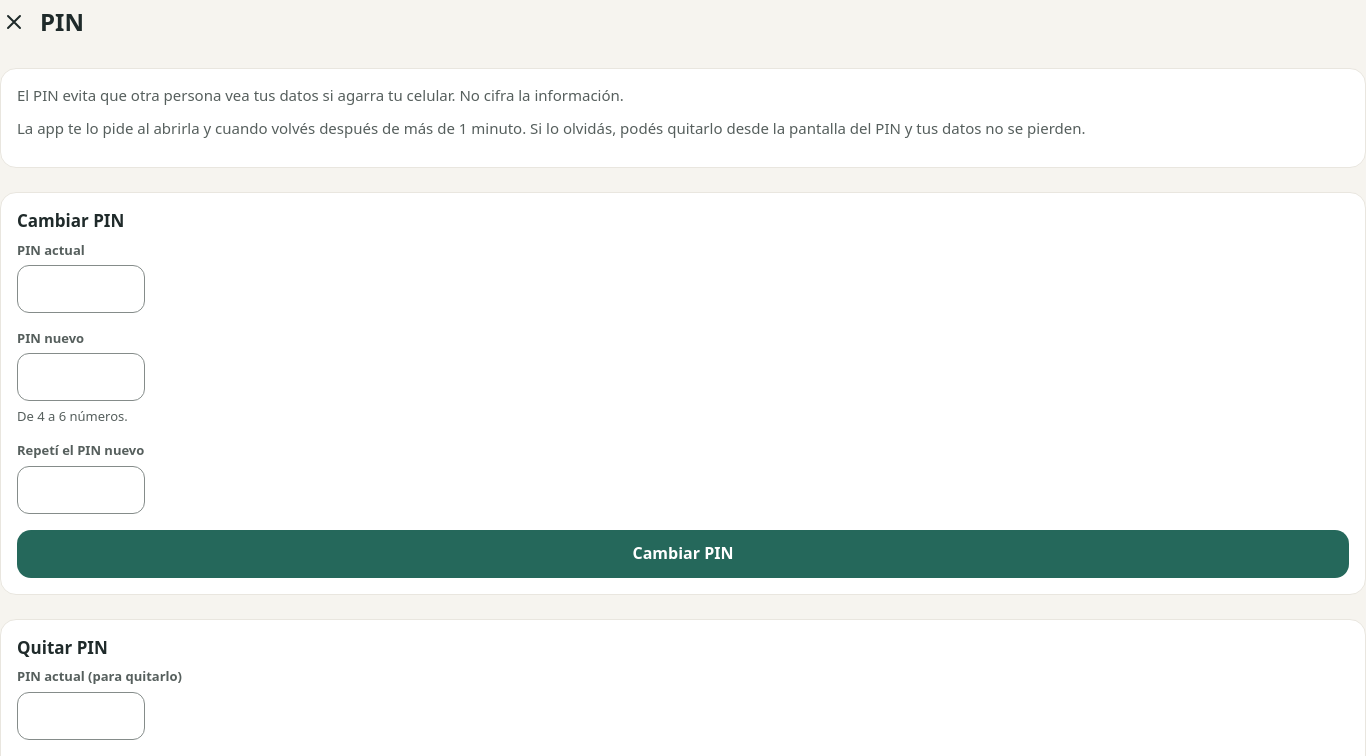
con PIN › cambia el PIN pidiendo el actual
In the password field labelled "PIN actual": point(81, 289) x1=17 y1=265 x2=145 y2=313, type "1234"
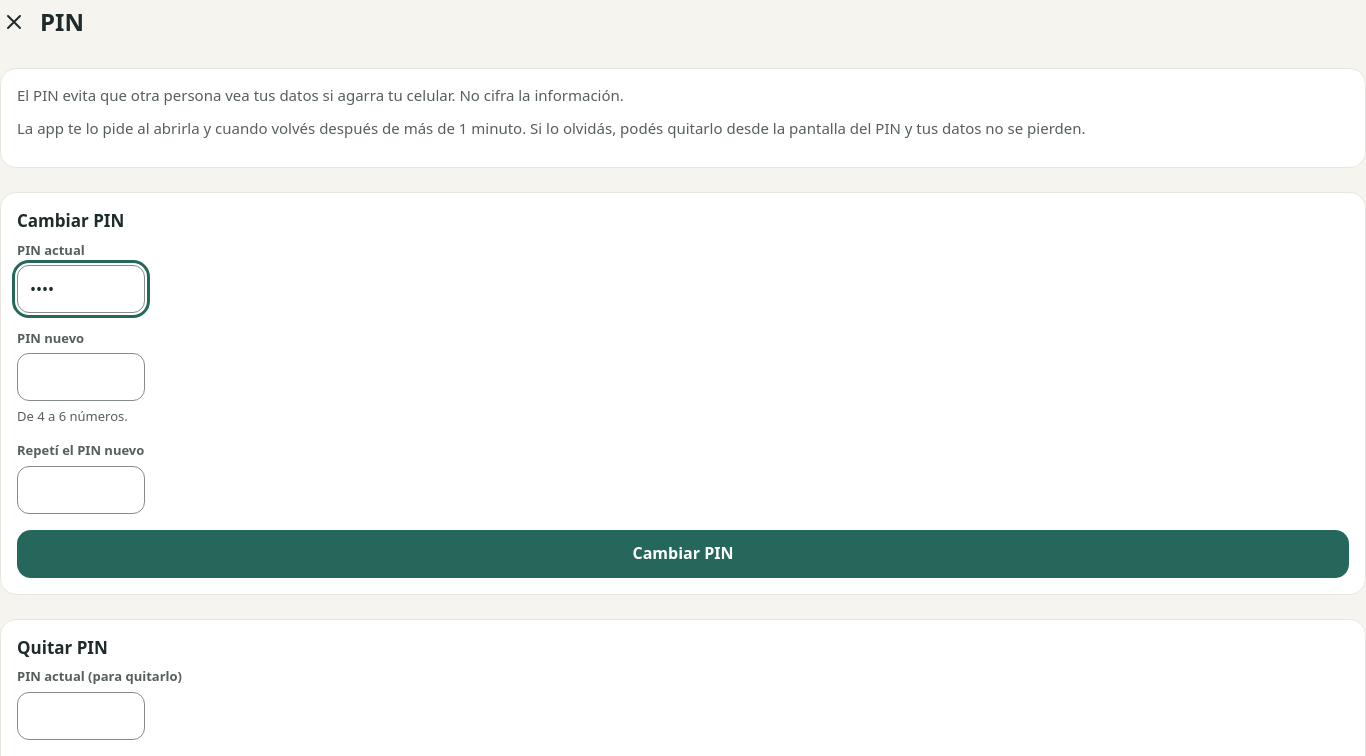
In the password field labelled "PIN nuevo": point(81, 377) x1=17 y1=353 x2=145 y2=401, type "987654"
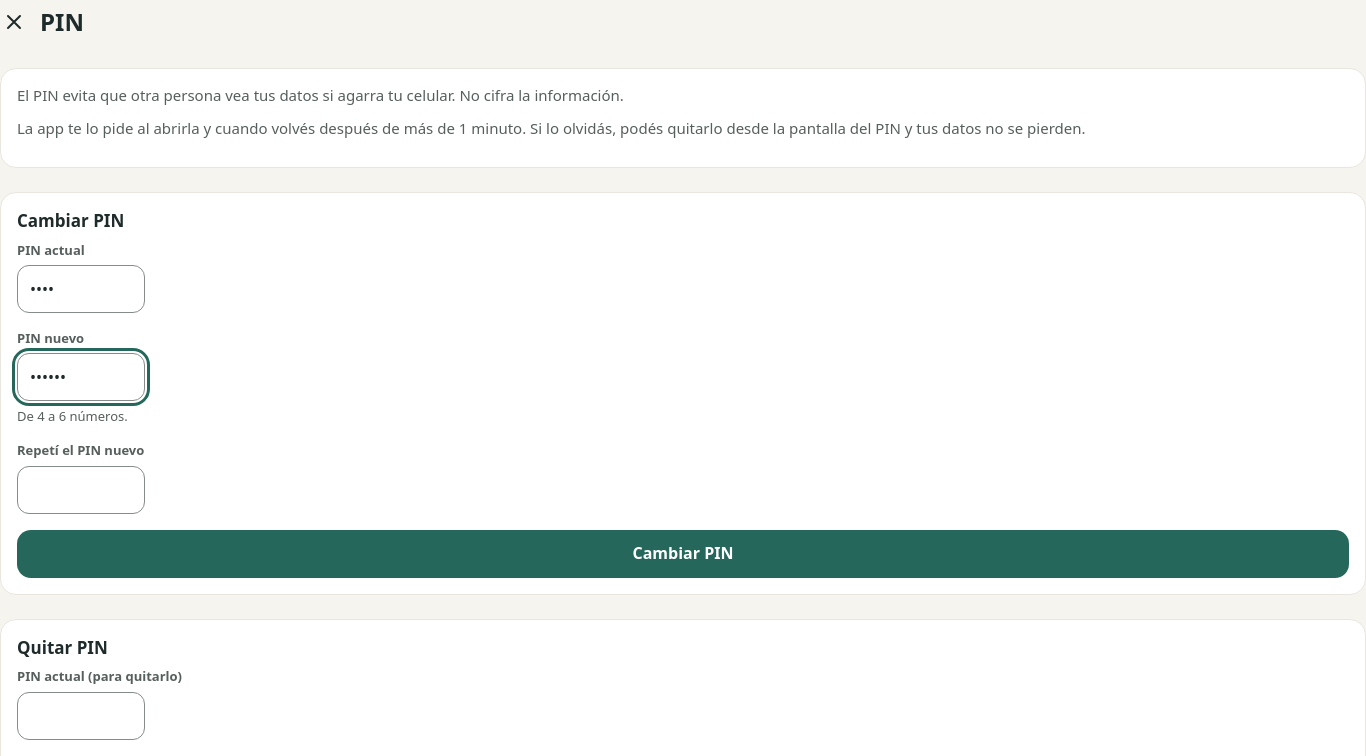
In the password field labelled "Repetí el PIN nuevo": point(81, 490) x1=17 y1=466 x2=145 y2=514, type "987654"
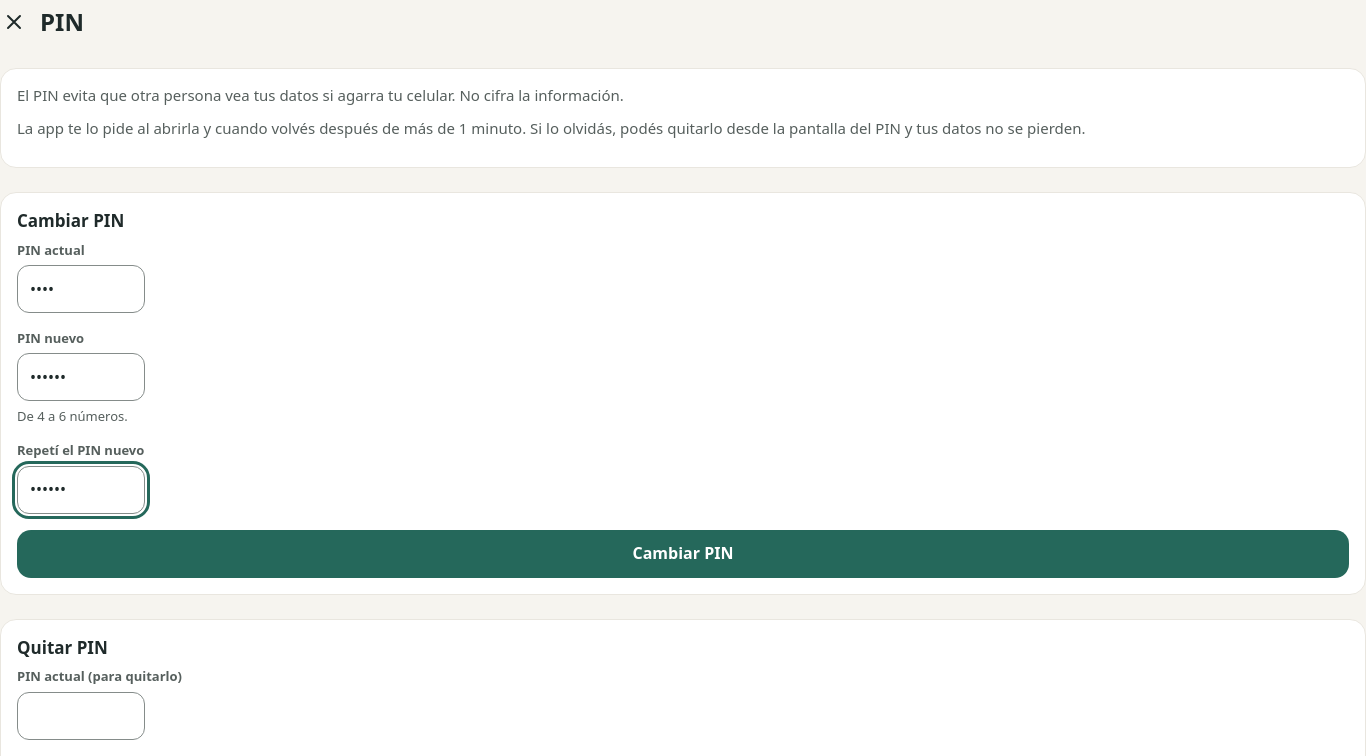
Click the button "Cambiar PIN": point(683, 554) x1=17 y1=530 x2=1349 y2=578
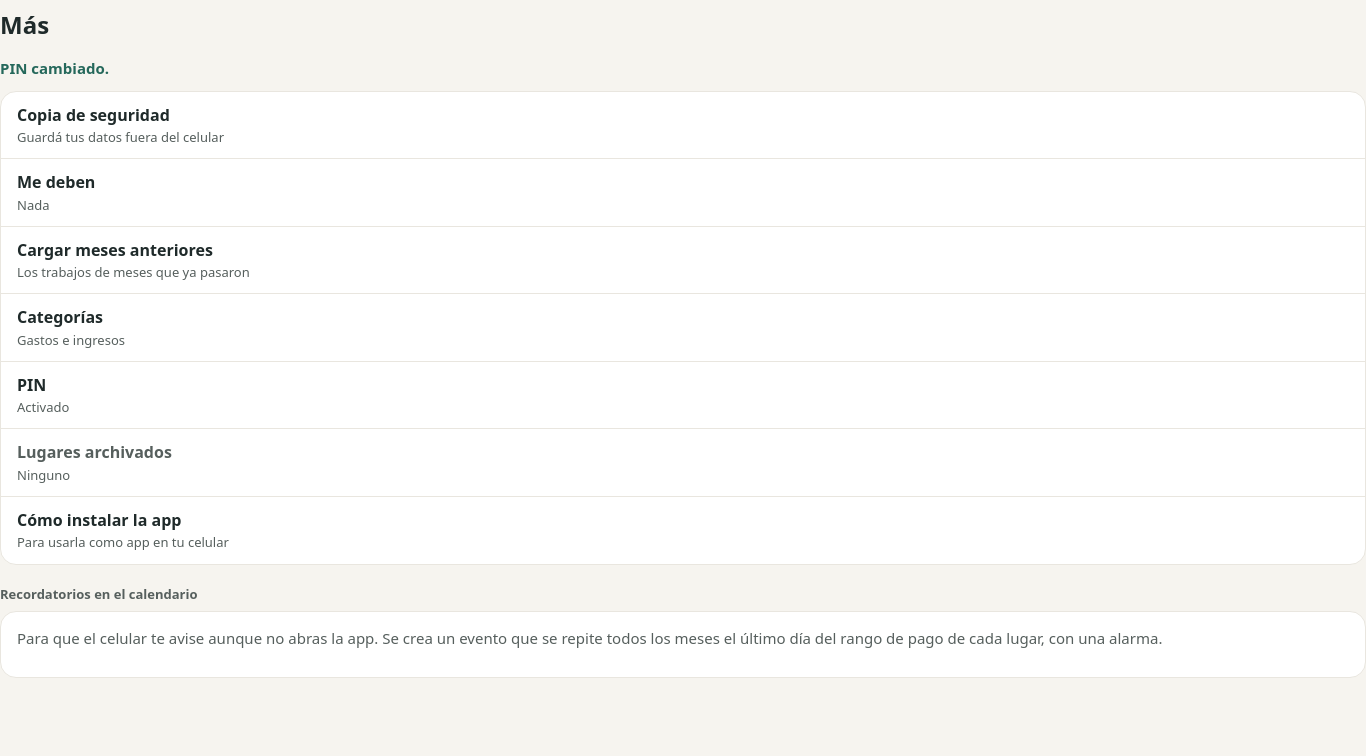
Result: the text "PIN cambiado." is shown at x1=0 y1=58 x2=109 y2=78
